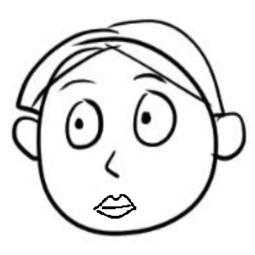cupid_mouth: (89, 188, 138, 221)
ear: (5, 115, 52, 166), (205, 108, 247, 163)
eye: (129, 87, 182, 154), (64, 98, 106, 154)
eyebrow: (58, 74, 98, 95), (128, 72, 170, 85)
pointy_nose: (100, 148, 124, 180)
